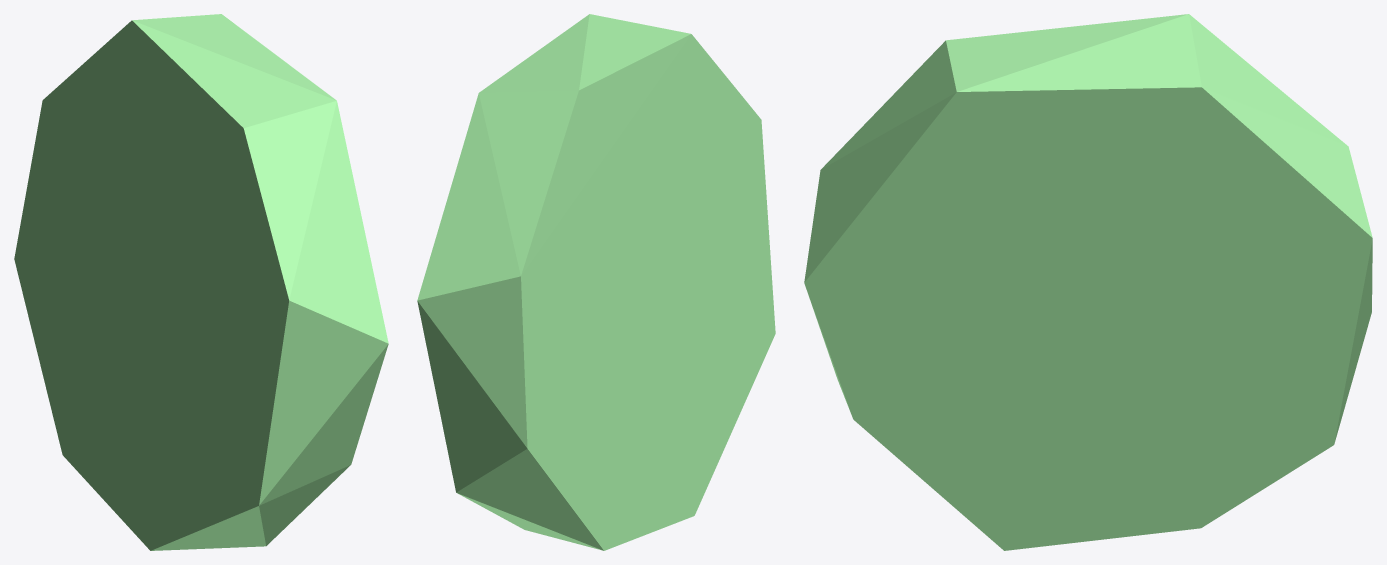
Rendered from UMIRobot_UMIRobot_link_5_convex_coll_34.dae.
The picture shows the model from 3 angles, left to right: view 1: azimuth 30°, elevation 25°; view 2: azimuth 150°, elevation 25°; view 3: azimuth 270°, elevation 25°; orthographic projection. The views are drawn at different scales.
Parts seen in each view (by area): view 1: node; view 2: node; view 3: node.
Part boxes in pixels (x1=…): node: x1=14, y1=14, x2=388, y2=550; node: x1=417, y1=14, x2=775, y2=550; node: x1=804, y1=14, x2=1372, y2=550.
Bounding box in the file's own units: 0.0021 × 0.00651 × 0.00655.
